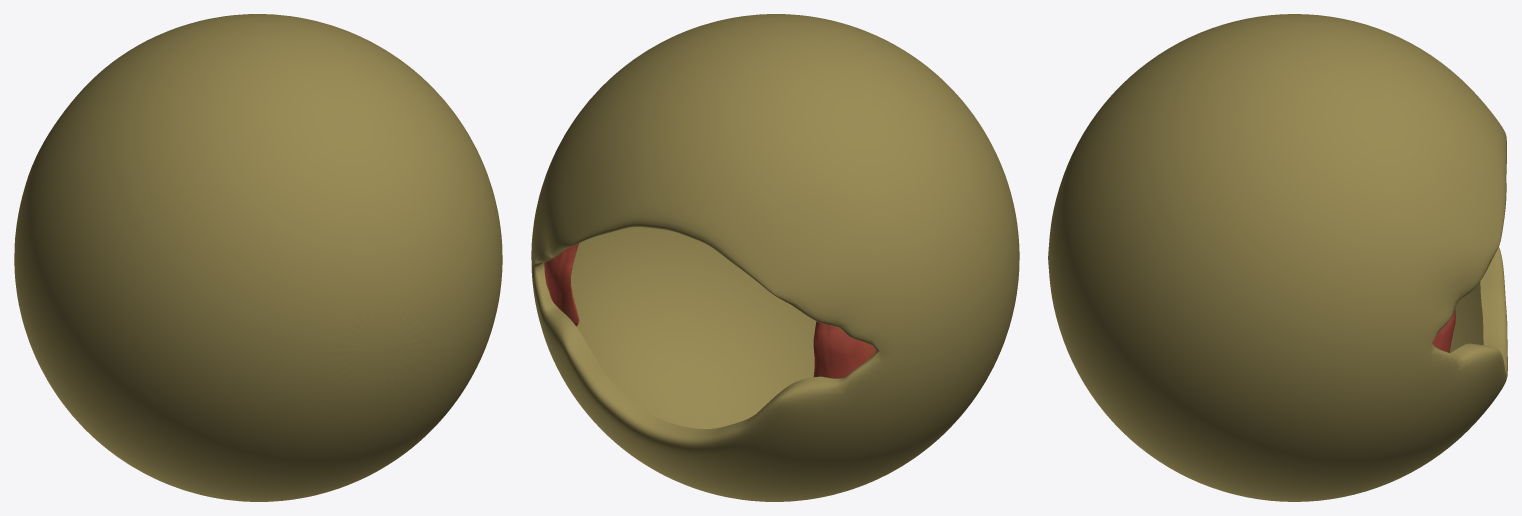
The model's file is eyeblobl.fbx.
3 renders of one model, left to right at view 1: azimuth 30°, elevation 25°; view 2: azimuth 150°, elevation 25°; view 3: azimuth 270°, elevation 25°, orthographic.
Parts seen in each view (by area): view 1: eye_blob; view 2: eye_blob, eye_corner; view 3: eye_blob.
Boxes of the visible parts, bbox=[...] form: eye_blob: bbox=[14, 14, 502, 501]; eye_blob: bbox=[531, 14, 1019, 501]; eye_corner: bbox=[544, 243, 876, 378]; eye_blob: bbox=[1048, 14, 1507, 501].
Size of the model in its own units: 236 by 236 by 223.
